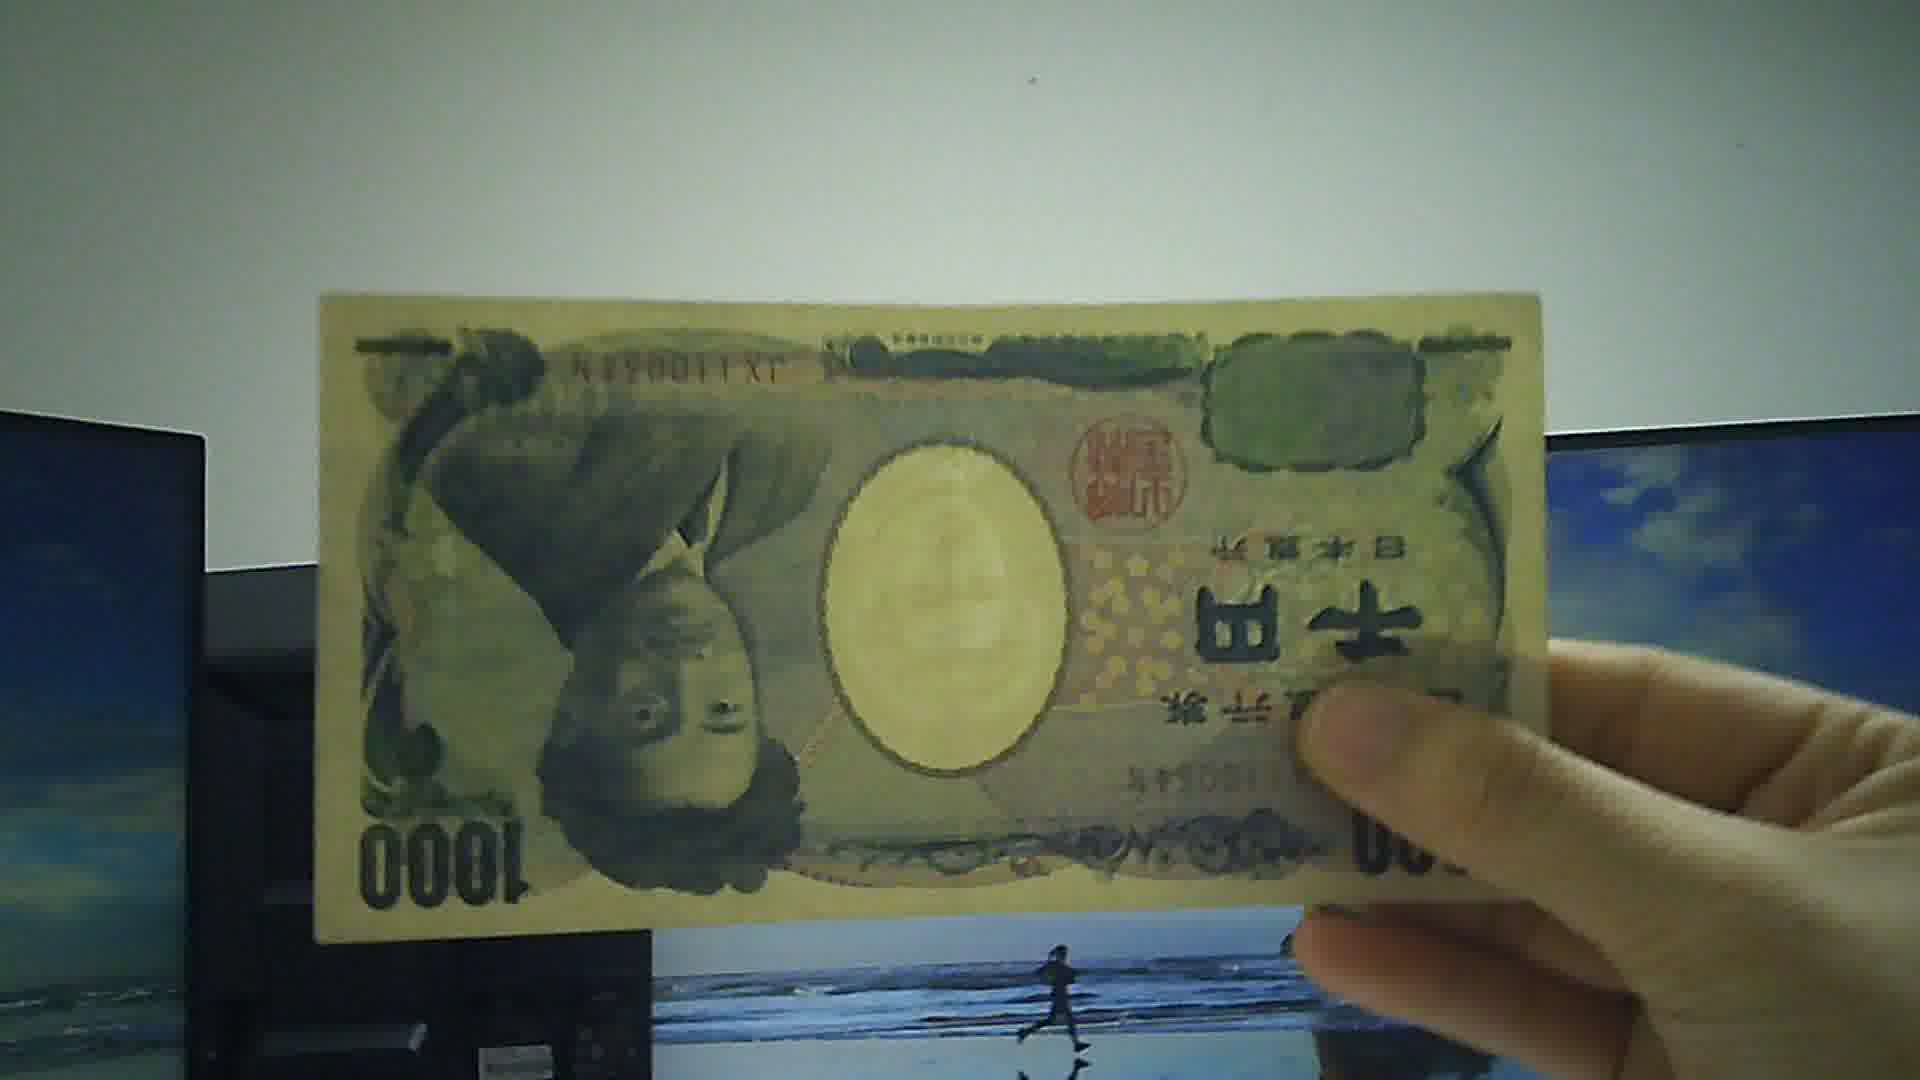1,000 Yen: (295, 282, 1556, 928)
